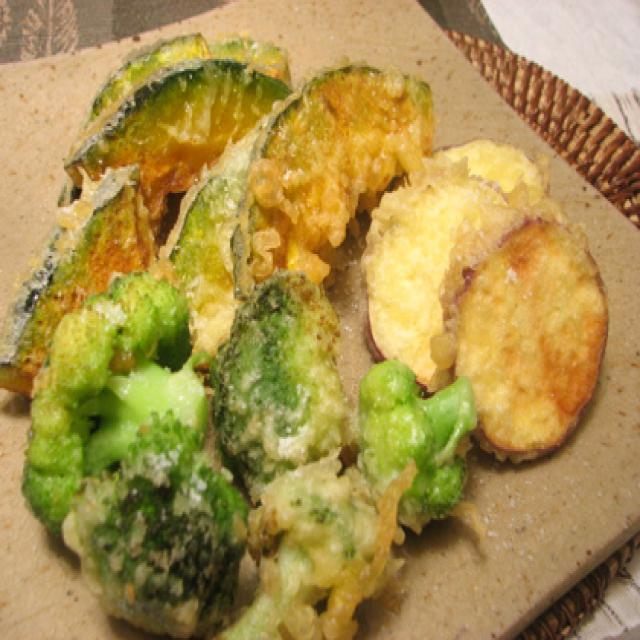蔬菜料理: (0, 0, 613, 640)
